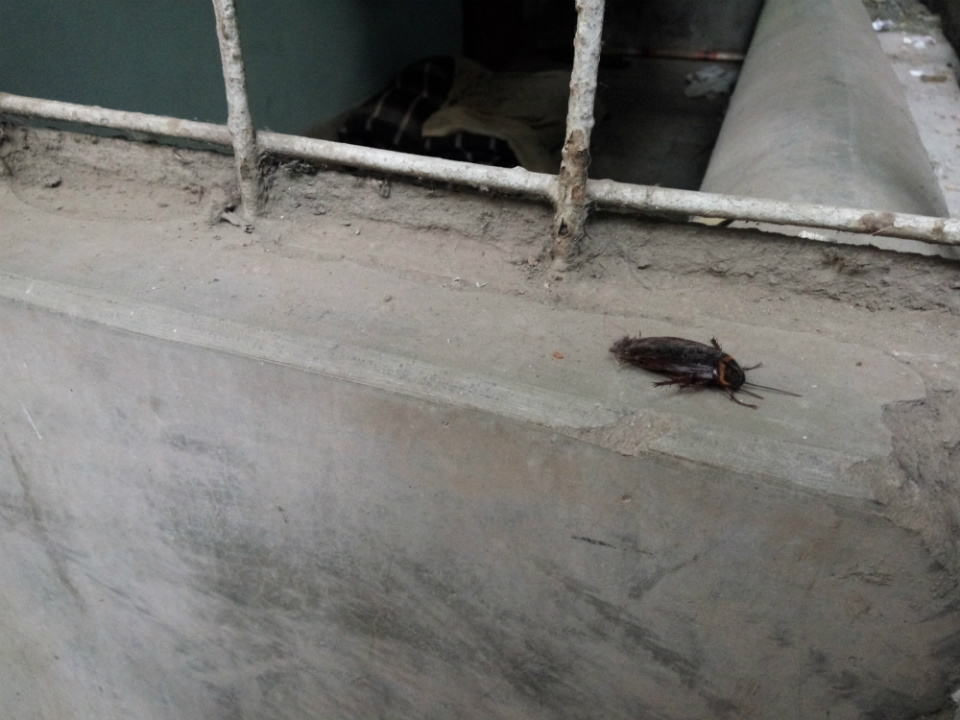cockroach: (516, 310, 820, 418)
